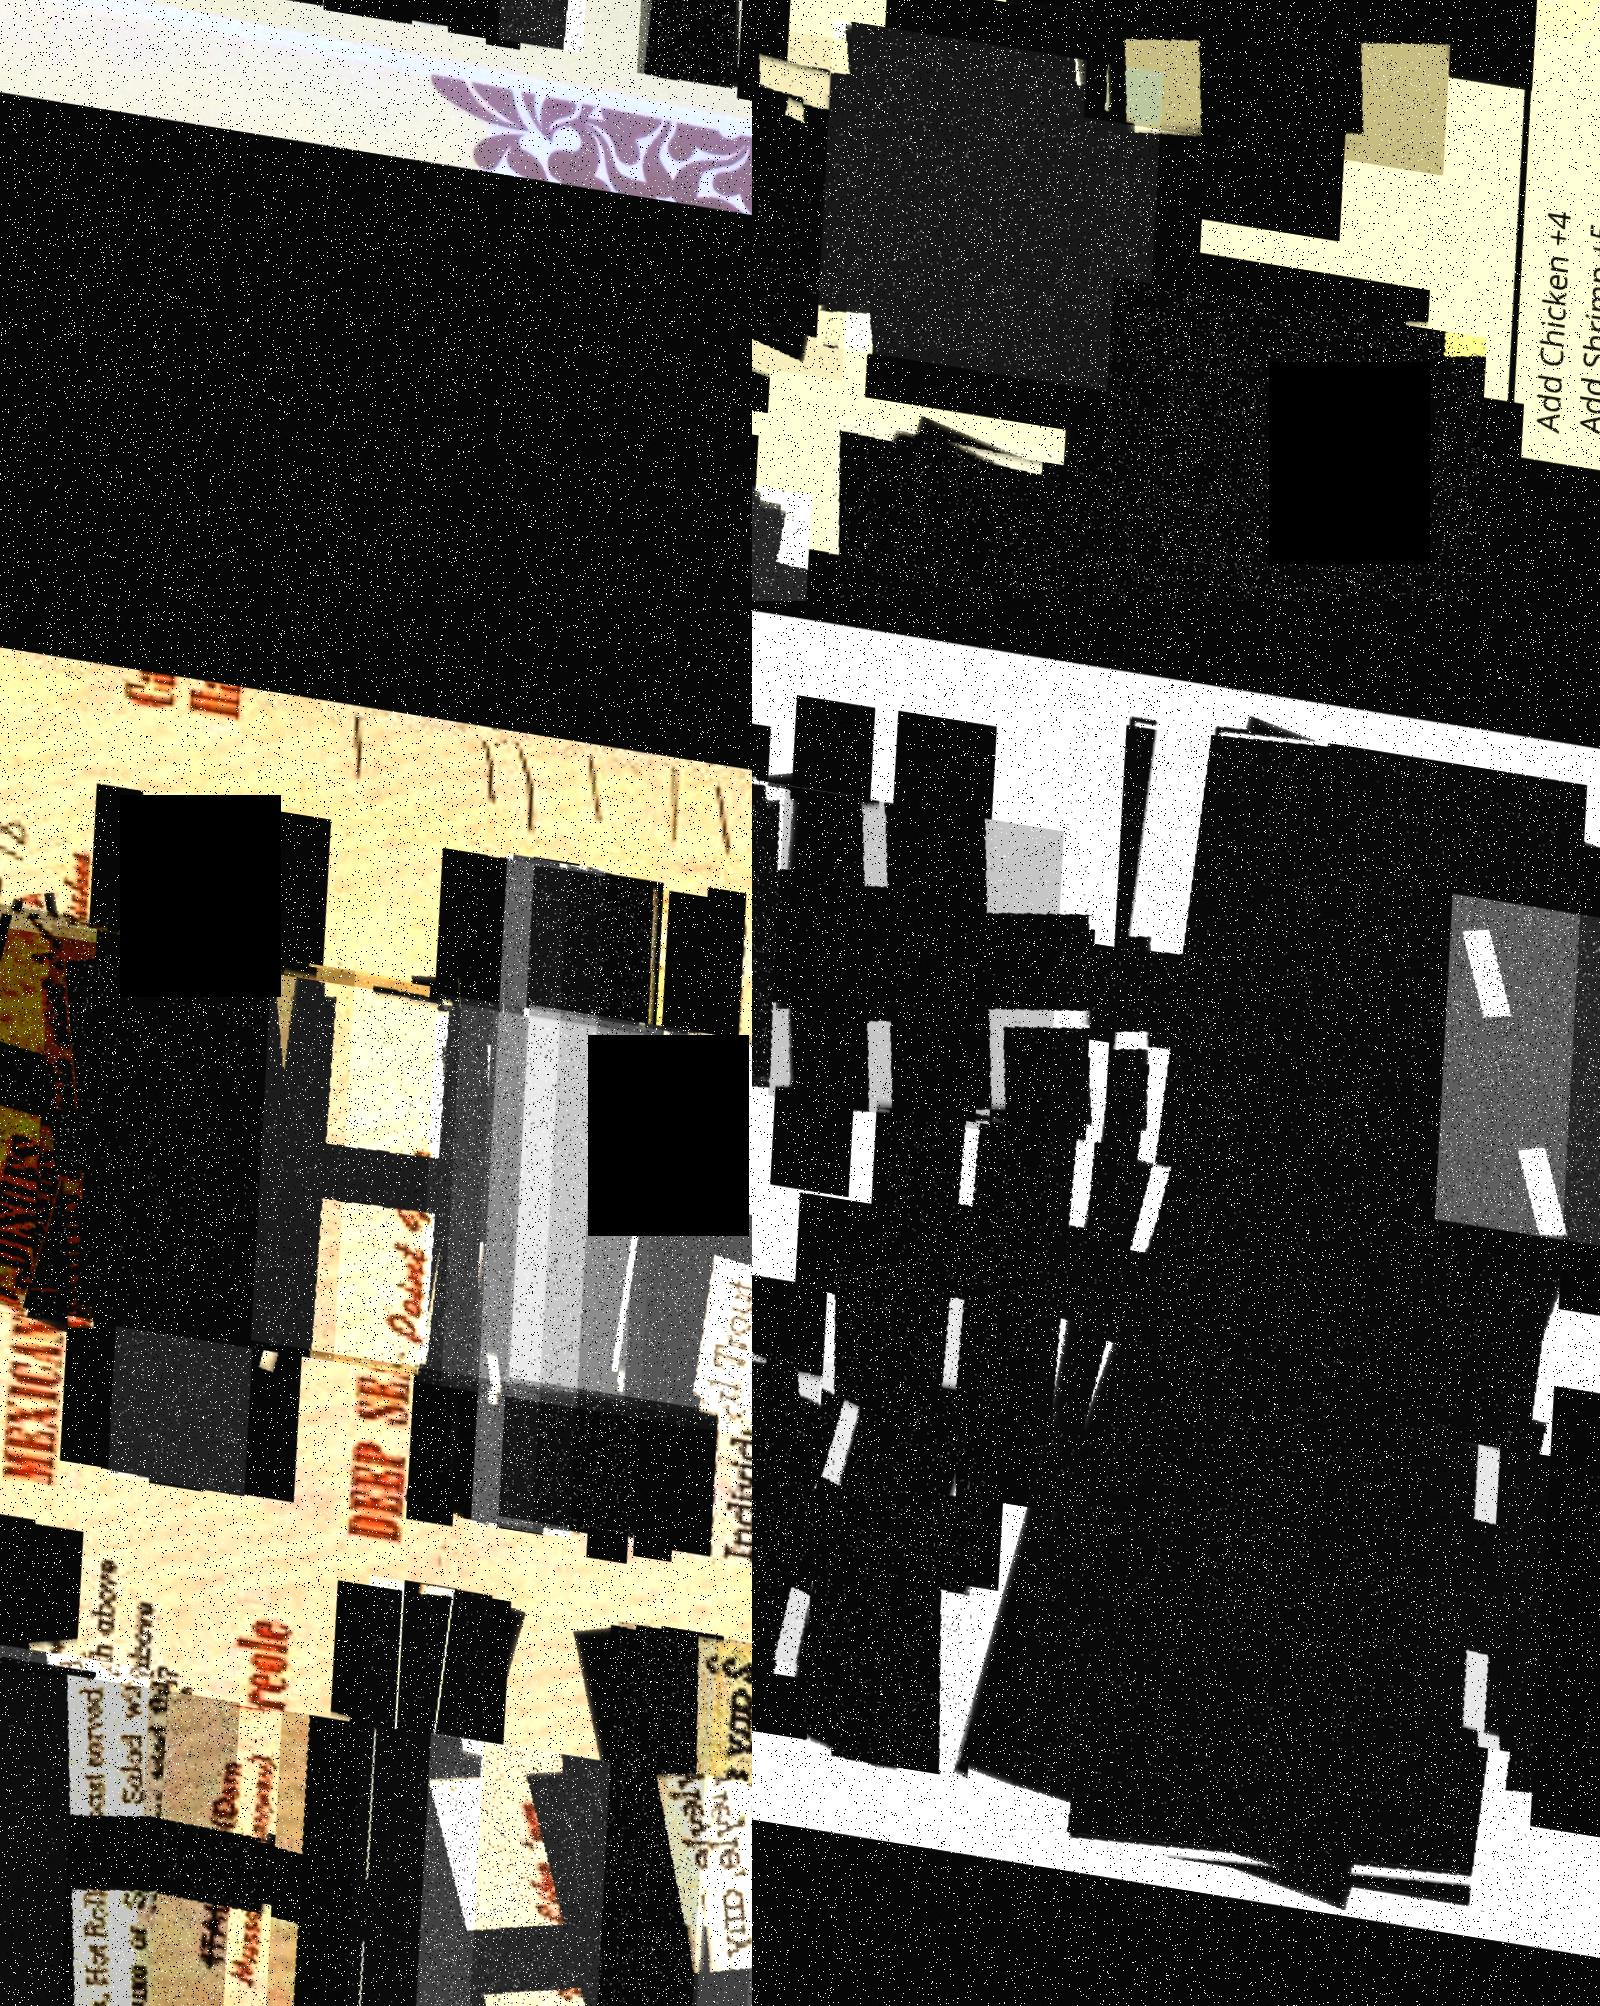Menu-Items: (880, 697, 1600, 1923), (26, 927, 514, 1382), (31, 792, 330, 1495), (0, 922, 464, 1369), (202, 970, 663, 1399), (423, 862, 713, 1536), (393, 850, 653, 1536), (366, 991, 753, 1443), (0, 903, 377, 1363), (358, 850, 614, 1526), (764, 16, 1171, 395), (80, 1691, 562, 2006), (1030, 273, 1492, 601), (196, 1707, 671, 2006), (423, 1009, 753, 1438), (753, 1254, 1012, 1777), (0, 912, 313, 1334), (753, 783, 1112, 1144), (459, 1001, 753, 1435), (826, 1107, 1189, 1445), (242, 1572, 522, 2006), (341, 1730, 753, 2006), (488, 1618, 753, 2006), (0, 1639, 243, 2006), (1357, 1433, 1600, 1782), (753, 769, 994, 1120), (0, 862, 181, 1325), (637, 878, 753, 1577), (1388, 890, 1600, 1270), (753, 411, 1172, 601), (1035, 0, 1478, 173), (0, 1621, 198, 2006), (0, 854, 140, 1317), (753, 1327, 936, 1681), (0, 1601, 157, 2006), (586, 1635, 753, 2006), (753, 0, 870, 379), (753, 754, 865, 1094), (753, 1307, 824, 1676), (1549, 1405, 1600, 1890), (1523, 416, 1600, 601)
